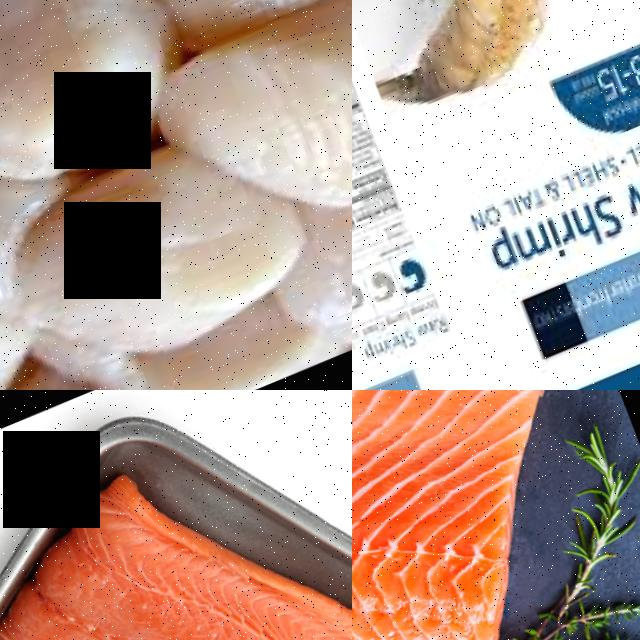salmon: (352, 390, 585, 630), (21, 459, 214, 637), (352, 452, 511, 640), (126, 542, 326, 640)
sea scallops: (0, 130, 283, 390), (0, 0, 188, 212), (198, 0, 352, 241), (128, 0, 352, 55)
